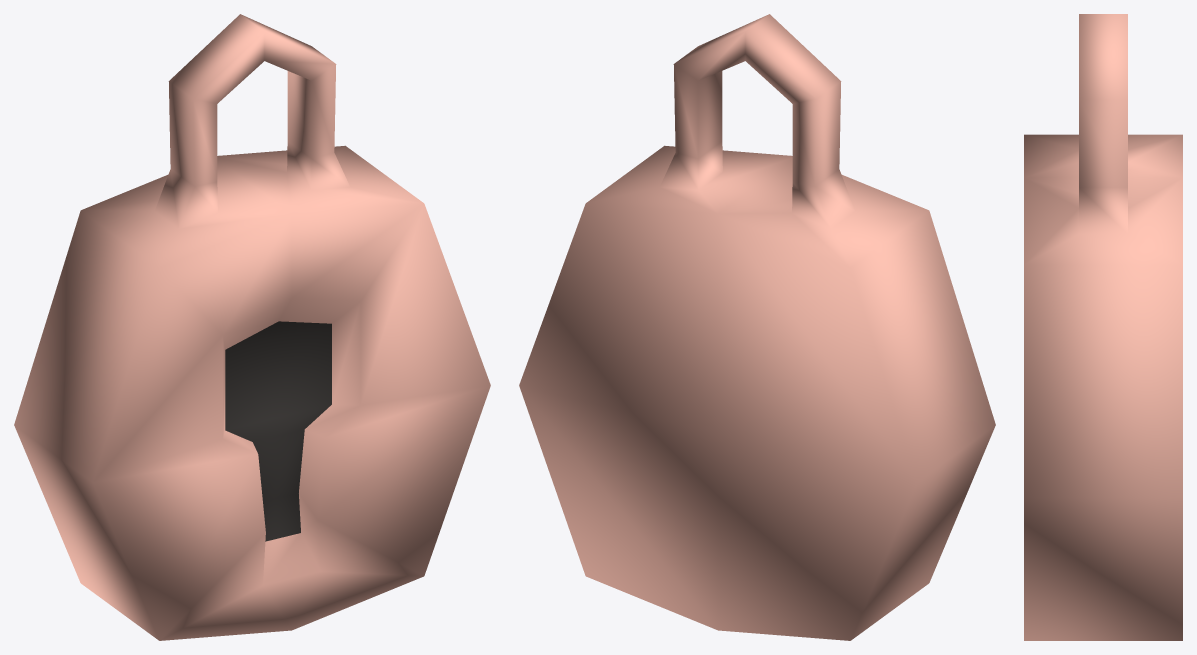
The model's file is lock_rose.fbx.
3 views of the same model, side by side, from view 1: azimuth 30°, elevation 25°; view 2: azimuth 150°, elevation 25°; view 3: azimuth 270°, elevation 25° (orthographic).
Parts seen in each view (by area): view 1: lock_rose; view 2: lock_rose; view 3: lock_rose.
Boxes of the visible parts, x1,y1,x2,y2 form: lock_rose: [14, 14, 490, 640]; lock_rose: [519, 14, 995, 640]; lock_rose: [1024, 14, 1182, 640].
Bounding box in the file's own units: 0.4114 × 0.5716 × 0.141.
